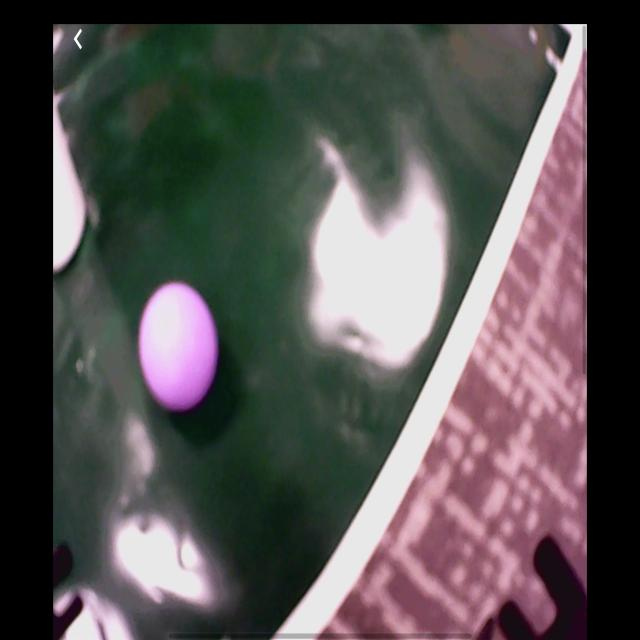ball: (139, 285, 220, 413)
